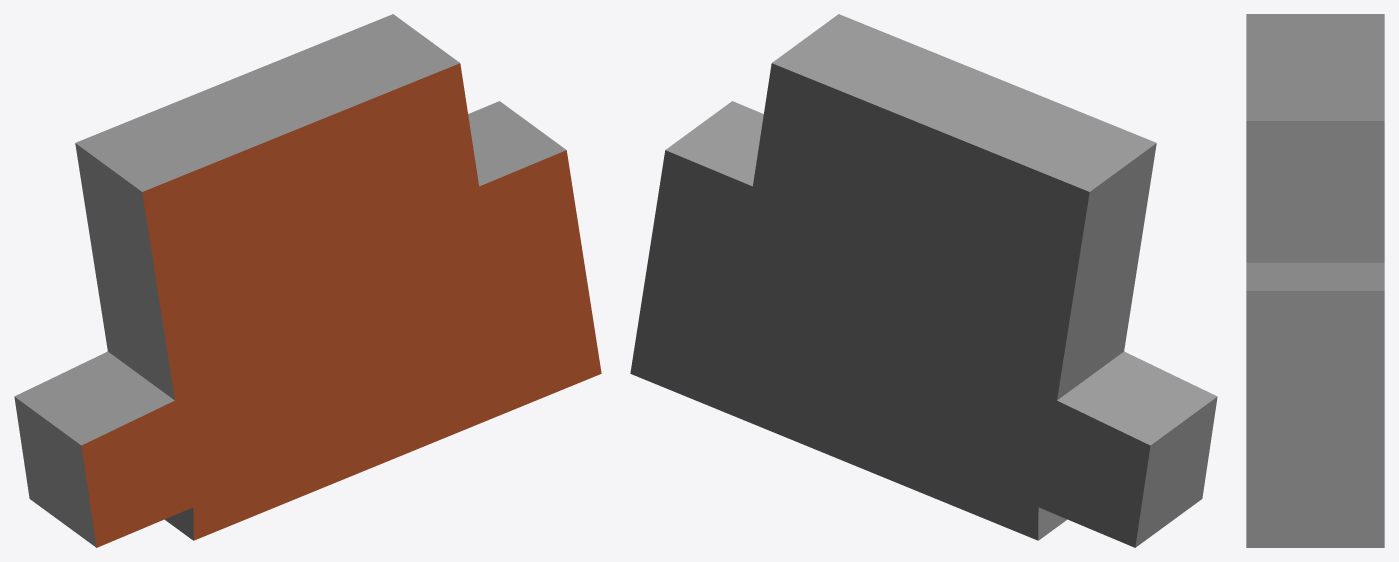
File: construction_2538_assumed_A_Casa_h6m.obj
3 views of the same model, side by side, from view 1: azimuth 30°, elevation 25°; view 2: azimuth 150°, elevation 25°; view 3: azimuth 270°, elevation 25° (orthographic). The views are drawn at different scales.
Parts seen in each view (by area): view 1: construction_2538_assumed_A_Casa; view 2: construction_2538_assumed_A_Casa; view 3: construction_2538_assumed_A_Casa.
Boxes of the visible parts, x1,y1,x2,y2 form: construction_2538_assumed_A_Casa: (14,14,601,547); construction_2538_assumed_A_Casa: (630,14,1217,547); construction_2538_assumed_A_Casa: (1246,14,1384,547).
Bounding box in the file's own units: 26.85 × 20.35 × 6.
